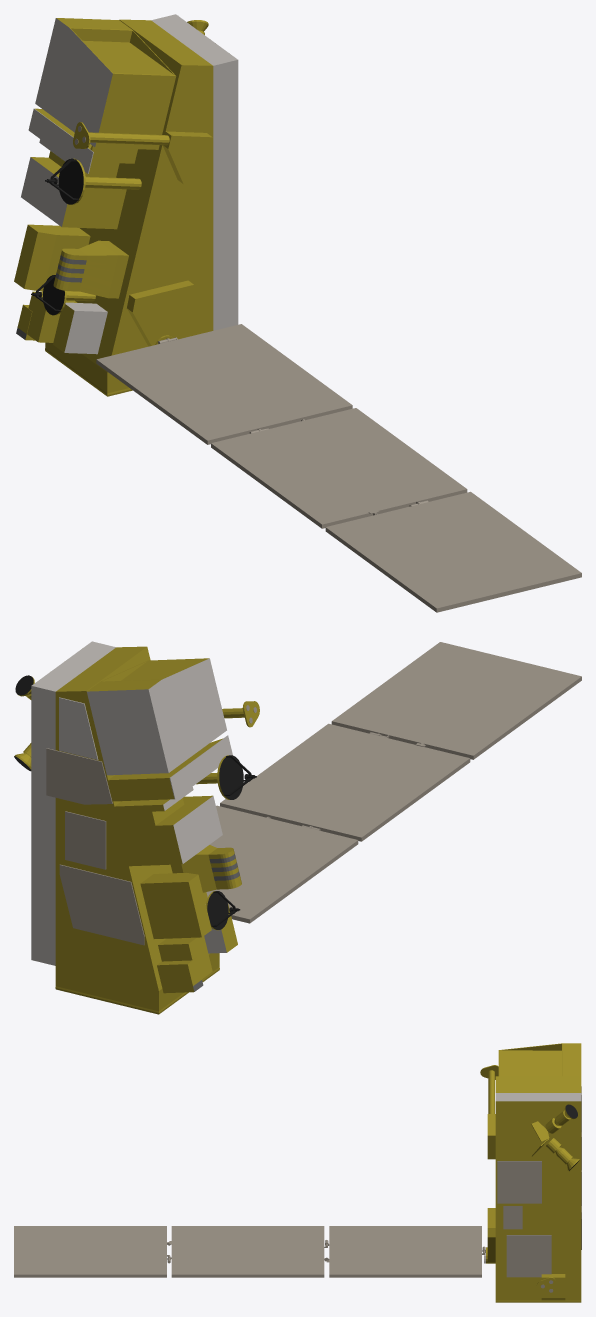
The model's file is snpp.glb.
3 views of the same model, one above another, from view 1: azimuth 30°, elevation 25°; view 2: azimuth 150°, elevation 25°; view 3: azimuth 270°, elevation 25° (orthographic). The views are drawn at different scales.
Visible parts, largest first — view 1: tex_01, foil_gold, tex_02, AO_01; view 2: tex_01, foil_gold, tex_02, AO_01, foil_silver; view 3: tex_01, foil_gold, tex_02.
Part boxes in pixels (x1,y1,x2,y2): tex_01: [74, 126, 581, 612]; foil_gold: [14, 18, 213, 396]; tex_02: [21, 14, 238, 354]; AO_01: [31, 158, 83, 315]; tex_01: [46, 642, 581, 945]; foil_gold: [15, 646, 259, 1014]; tex_02: [31, 641, 232, 965]; AO_01: [14, 675, 256, 929]; foil_silver: [193, 854, 239, 991]; tex_01: [14, 1132, 581, 1292]; foil_gold: [480, 1043, 581, 1302]; tex_02: [495, 1086, 581, 1132].
Bounding box in the file's own units: 2.57 × 4.18 × 8.96.
